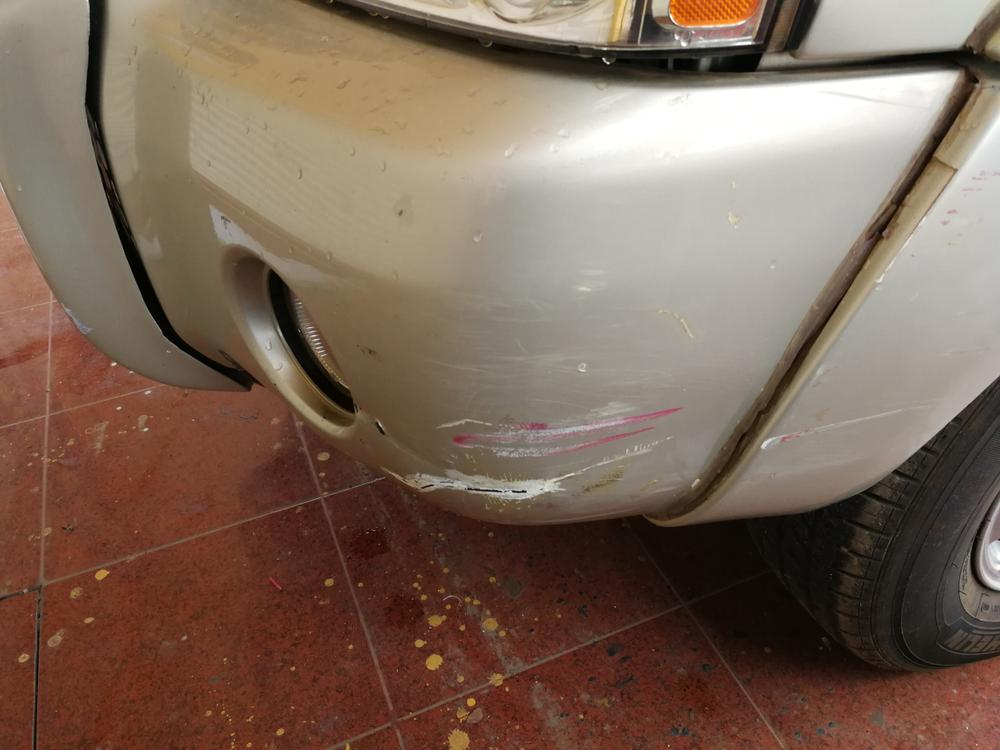scratch: (384, 388, 695, 508), (756, 405, 931, 458)
